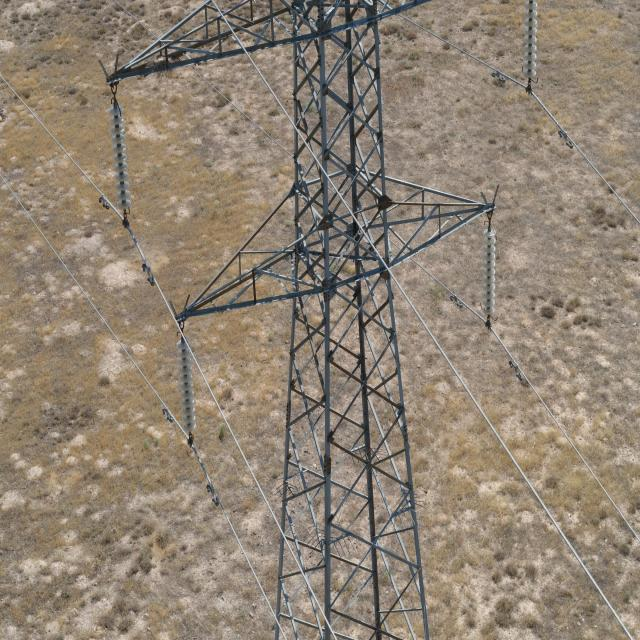voltage_line: (156, 16, 498, 640)
